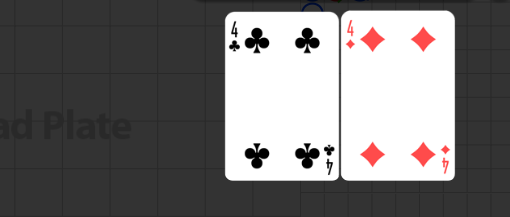4C: (227, 19, 241, 53)
4D: (439, 142, 451, 174)
